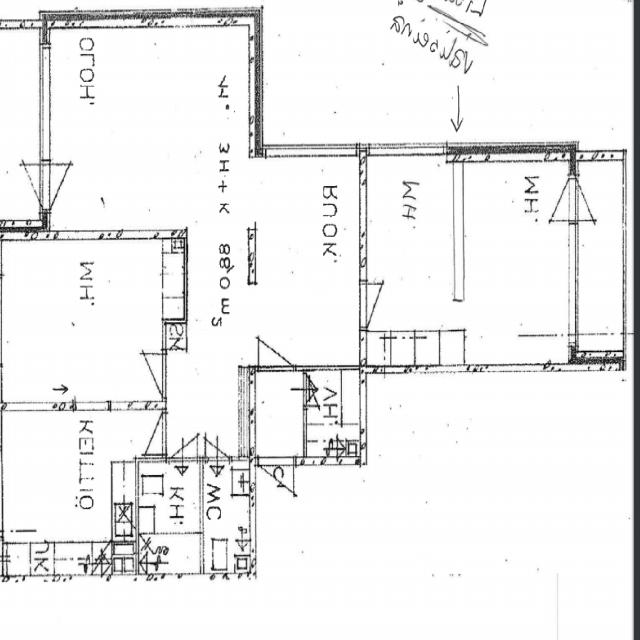door: (4, 162, 51, 210), (40, 162, 86, 210), (258, 315, 294, 370), (259, 457, 294, 513), (569, 176, 611, 220), (536, 176, 578, 220), (360, 284, 399, 328), (132, 354, 166, 397), (134, 414, 166, 454), (205, 422, 230, 462), (172, 423, 198, 461), (303, 374, 331, 406)
